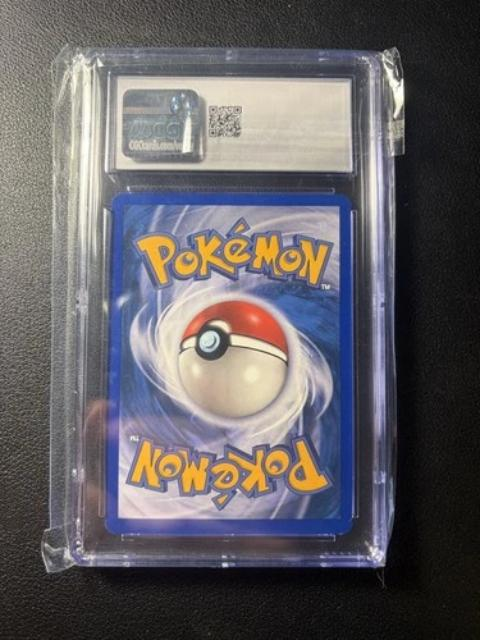Card: (102, 193, 357, 539)
